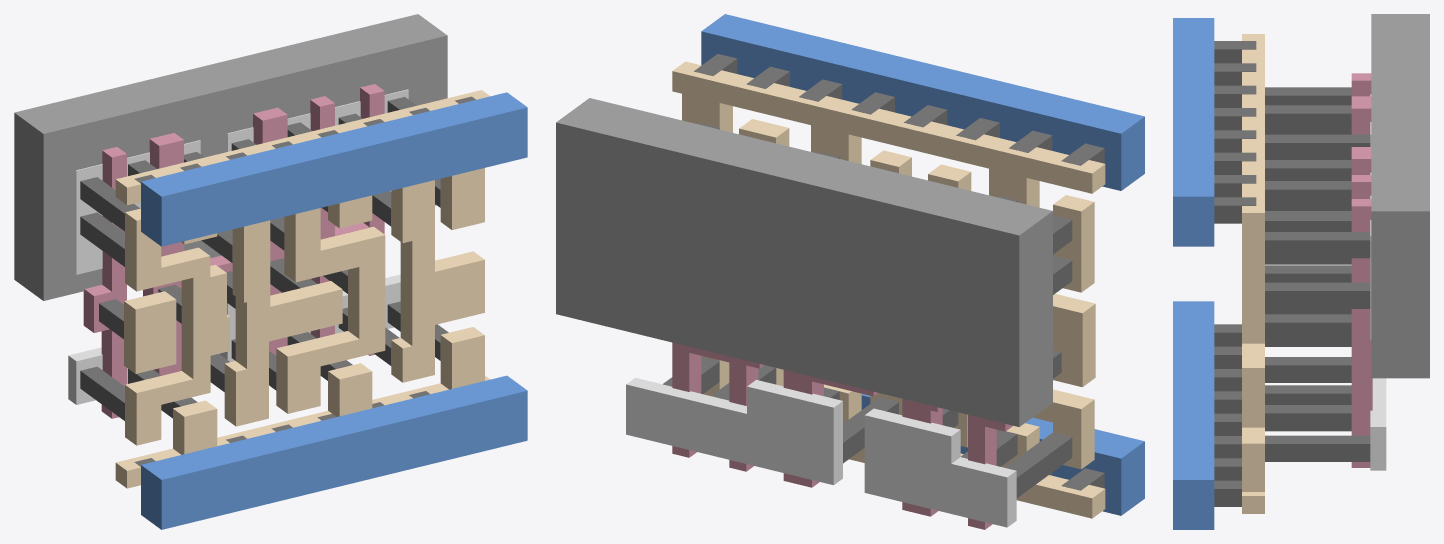
The model's file is sky130_fd_sc_hd__clkdlybuf4s25_2.gds.gltf.
3 views of the same model, side by side, from view 1: azimuth 30°, elevation 25°; view 2: azimuth 150°, elevation 25°; view 3: azimuth 270°, elevation 25° (orthographic). The views are drawn at different scales.
Parts seen in each view (by area): view 1: sky130_fd_sc_hd__clkdlybuf4s25_2_li1, sky130_fd_sc_hd__clkdlybuf4s25_2_met1, sky130_fd_sc_hd__clkdlybuf4s25_2_nwell, sky130_fd_sc_hd__clkdlybuf4s25_2_licon, sky130_fd_sc_hd__clkdlybuf4s25_2_poly, sky130_fd_sc_hd__clkdlybuf4s25_2_diff, sky130_fd_sc_hd__clkdlybuf4s25_2_mcon; view 2: sky130_fd_sc_hd__clkdlybuf4s25_2_nwell, sky130_fd_sc_hd__clkdlybuf4s25_2_li1, sky130_fd_sc_hd__clkdlybuf4s25_2_diff, sky130_fd_sc_hd__clkdlybuf4s25_2_met1, sky130_fd_sc_hd__clkdlybuf4s25_2_licon, sky130_fd_sc_hd__clkdlybuf4s25_2_poly, sky130_fd_sc_hd__clkdlybuf4s25_2_mcon; view 3: sky130_fd_sc_hd__clkdlybuf4s25_2_licon, sky130_fd_sc_hd__clkdlybuf4s25_2_nwell, sky130_fd_sc_hd__clkdlybuf4s25_2_met1, sky130_fd_sc_hd__clkdlybuf4s25_2_mcon, sky130_fd_sc_hd__clkdlybuf4s25_2_li1, sky130_fd_sc_hd__clkdlybuf4s25_2_poly, sky130_fd_sc_hd__clkdlybuf4s25_2_diff.
Part boxes in pixels (x1,y1,x2,y2): sky130_fd_sc_hd__clkdlybuf4s25_2_li1: (115,90,489,488); sky130_fd_sc_hd__clkdlybuf4s25_2_met1: (141,92,527,529); sky130_fd_sc_hd__clkdlybuf4s25_2_nwell: (14,14,447,300); sky130_fd_sc_hd__clkdlybuf4s25_2_licon: (80,97,448,420); sky130_fd_sc_hd__clkdlybuf4s25_2_poly: (83,84,384,418); sky130_fd_sc_hd__clkdlybuf4s25_2_diff: (68,89,408,404); sky130_fd_sc_hd__clkdlybuf4s25_2_mcon: (134,96,475,466); sky130_fd_sc_hd__clkdlybuf4s25_2_nwell: (556,98,1052,426); sky130_fd_sc_hd__clkdlybuf4s25_2_li1: (672,61,1105,518); sky130_fd_sc_hd__clkdlybuf4s25_2_diff: (626,378,1016,527); sky130_fd_sc_hd__clkdlybuf4s25_2_met1: (701,14,1144,515); sky130_fd_sc_hd__clkdlybuf4s25_2_licon: (663,123,1072,498); sky130_fd_sc_hd__clkdlybuf4s25_2_poly: (672,342,1013,529); sky130_fd_sc_hd__clkdlybuf4s25_2_mcon: (694,54,1104,490); sky130_fd_sc_hd__clkdlybuf4s25_2_licon: (1265,87,1370,461); sky130_fd_sc_hd__clkdlybuf4s25_2_nwell: (1371,14,1429,378); sky130_fd_sc_hd__clkdlybuf4s25_2_met1: (1173,18,1214,529); sky130_fd_sc_hd__clkdlybuf4s25_2_mcon: (1214,41,1256,506); sky130_fd_sc_hd__clkdlybuf4s25_2_li1: (1242,34,1264,513); sky130_fd_sc_hd__clkdlybuf4s25_2_poly: (1351,73,1372,467); sky130_fd_sc_hd__clkdlybuf4s25_2_diff: (1370,94,1386,470).
Bounding box in the file's own units: 4.06 × 3.2 × 2.24.
